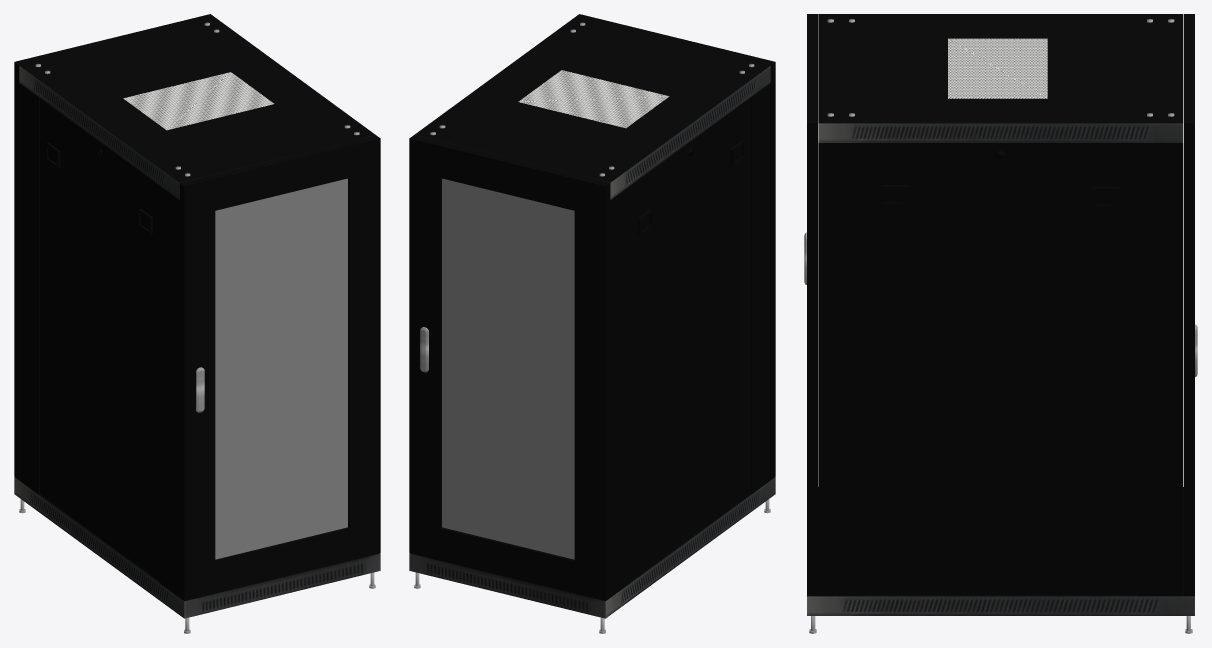
Rendered from RKAB25.fbx.
3 renders of one model, left to right at view 1: azimuth 30°, elevation 25°; view 2: azimuth 150°, elevation 25°; view 3: azimuth 270°, elevation 25°, orthographic. The views are drawn at different scales.
Visible parts, largest first — view 1: frontdoor, Box163, RKAB25, backdoor; view 2: backdoor, Box163, RKAB25, frontdoor; view 3: RKAB25, Box163, frontdoor, backdoor.
Part boxes in pixels (x1,y1,x2,y2): frontdoor: (179, 135, 380, 600); Box163: (14, 17, 380, 633); RKAB25: (40, 98, 160, 582); backdoor: (14, 14, 214, 479); backdoor: (409, 135, 610, 600); Box163: (409, 17, 775, 633); RKAB25: (630, 97, 750, 581); frontdoor: (575, 14, 775, 479); RKAB25: (861, 143, 1138, 594); Box163: (807, 14, 1194, 633); frontdoor: (804, 14, 817, 595); backdoor: (1184, 14, 1197, 595).
Bounding box in the file's own units: 610 × 1316 × 913.
6 materials, 4 textured.
